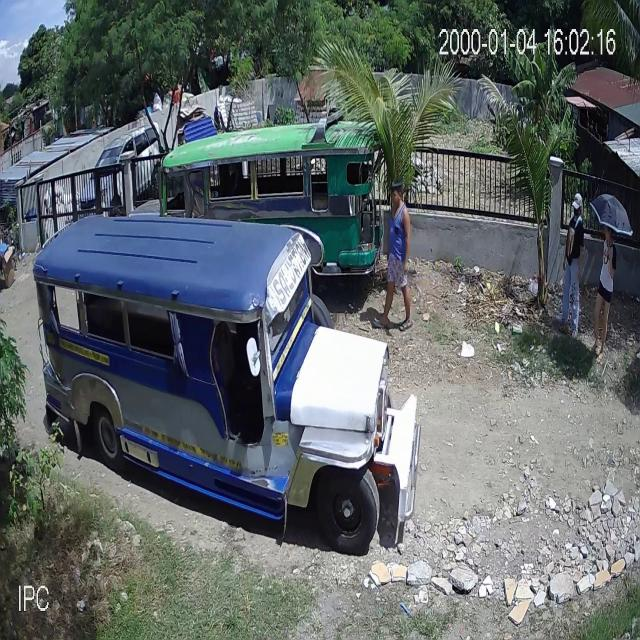standing: (556, 194, 588, 342)
walking: (374, 176, 413, 334), (589, 221, 616, 366)
